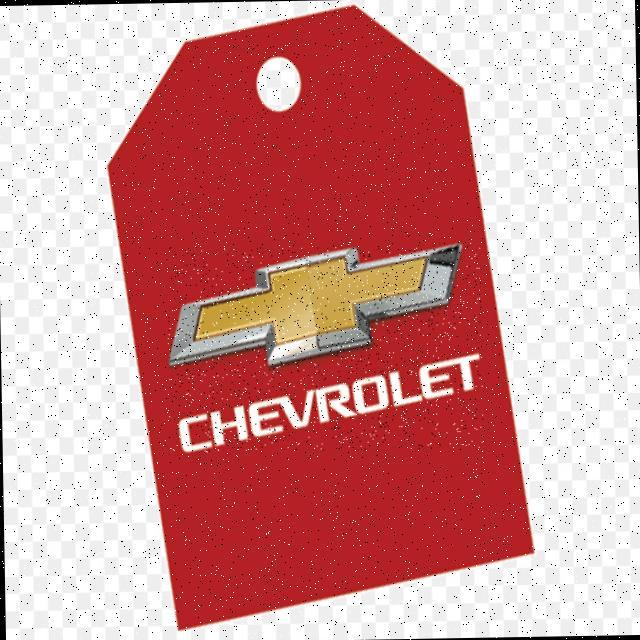Chevrolet: (166, 242, 484, 453)
